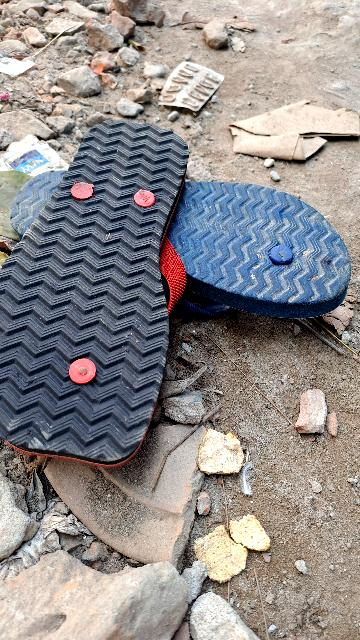sandal: (0, 99, 199, 466), (5, 155, 331, 309)
